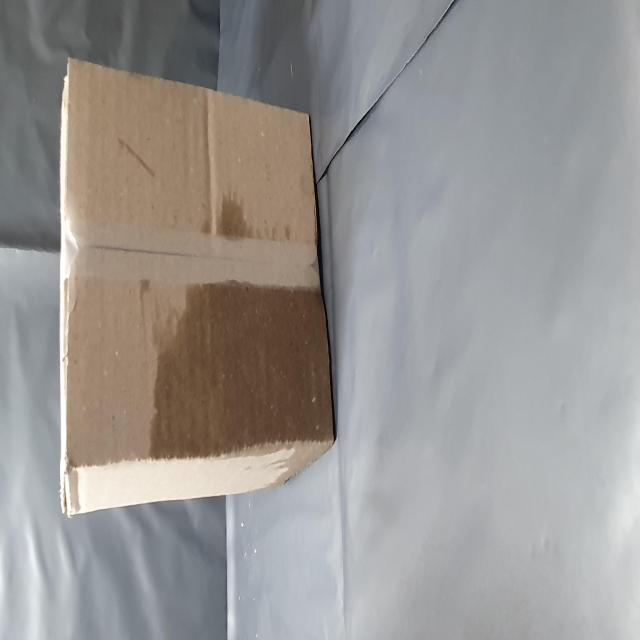wet: (105, 272, 253, 592)
